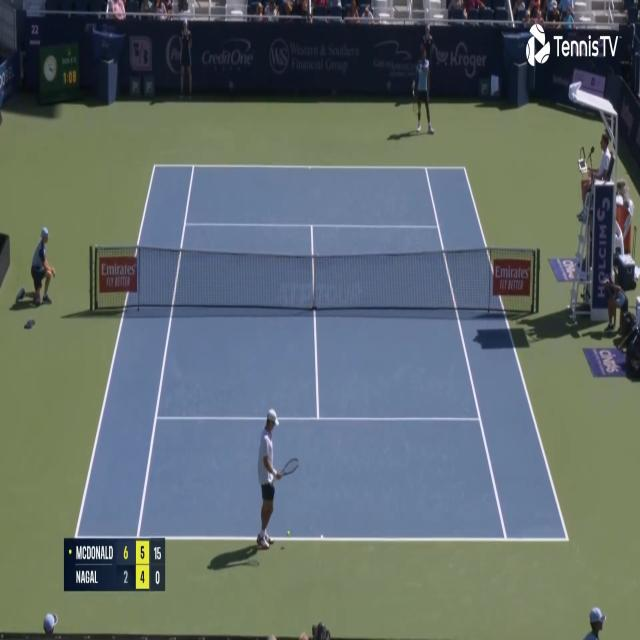tennis-player: (252, 404, 301, 554), (410, 37, 436, 137)
